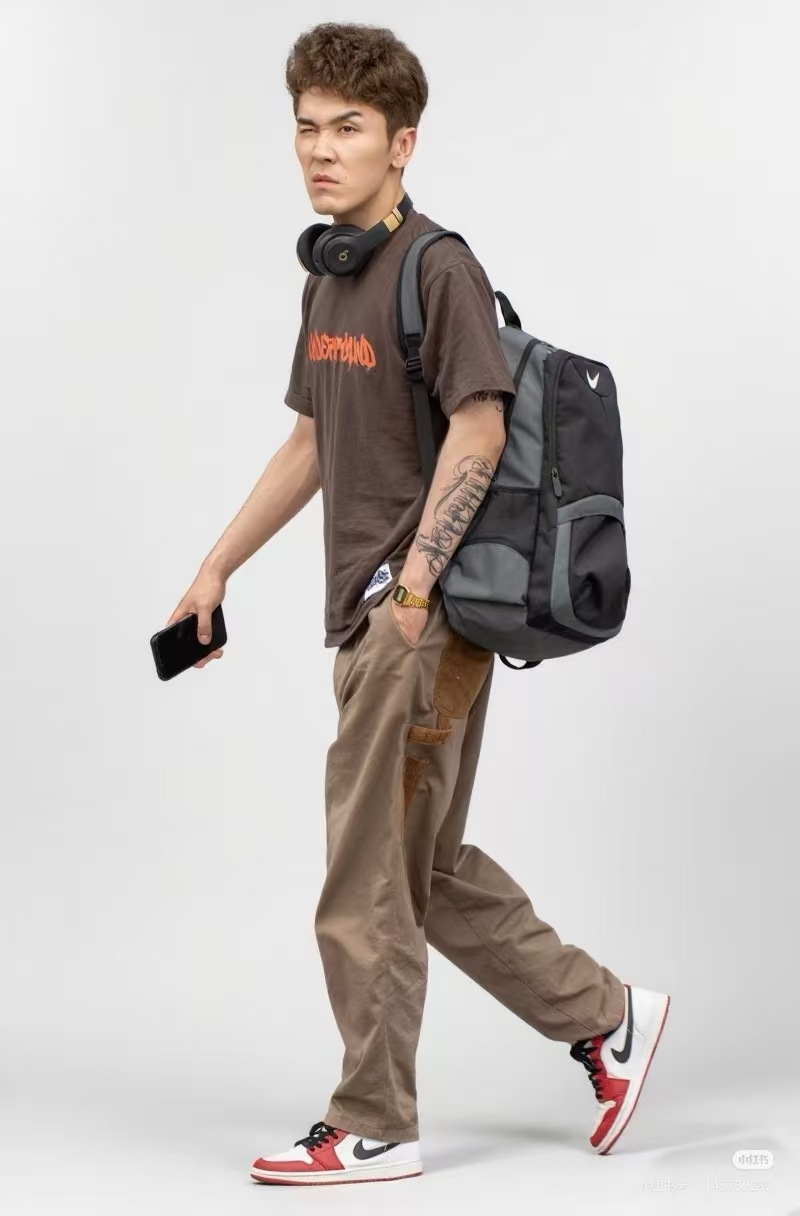up: (138, 14, 693, 1168)
